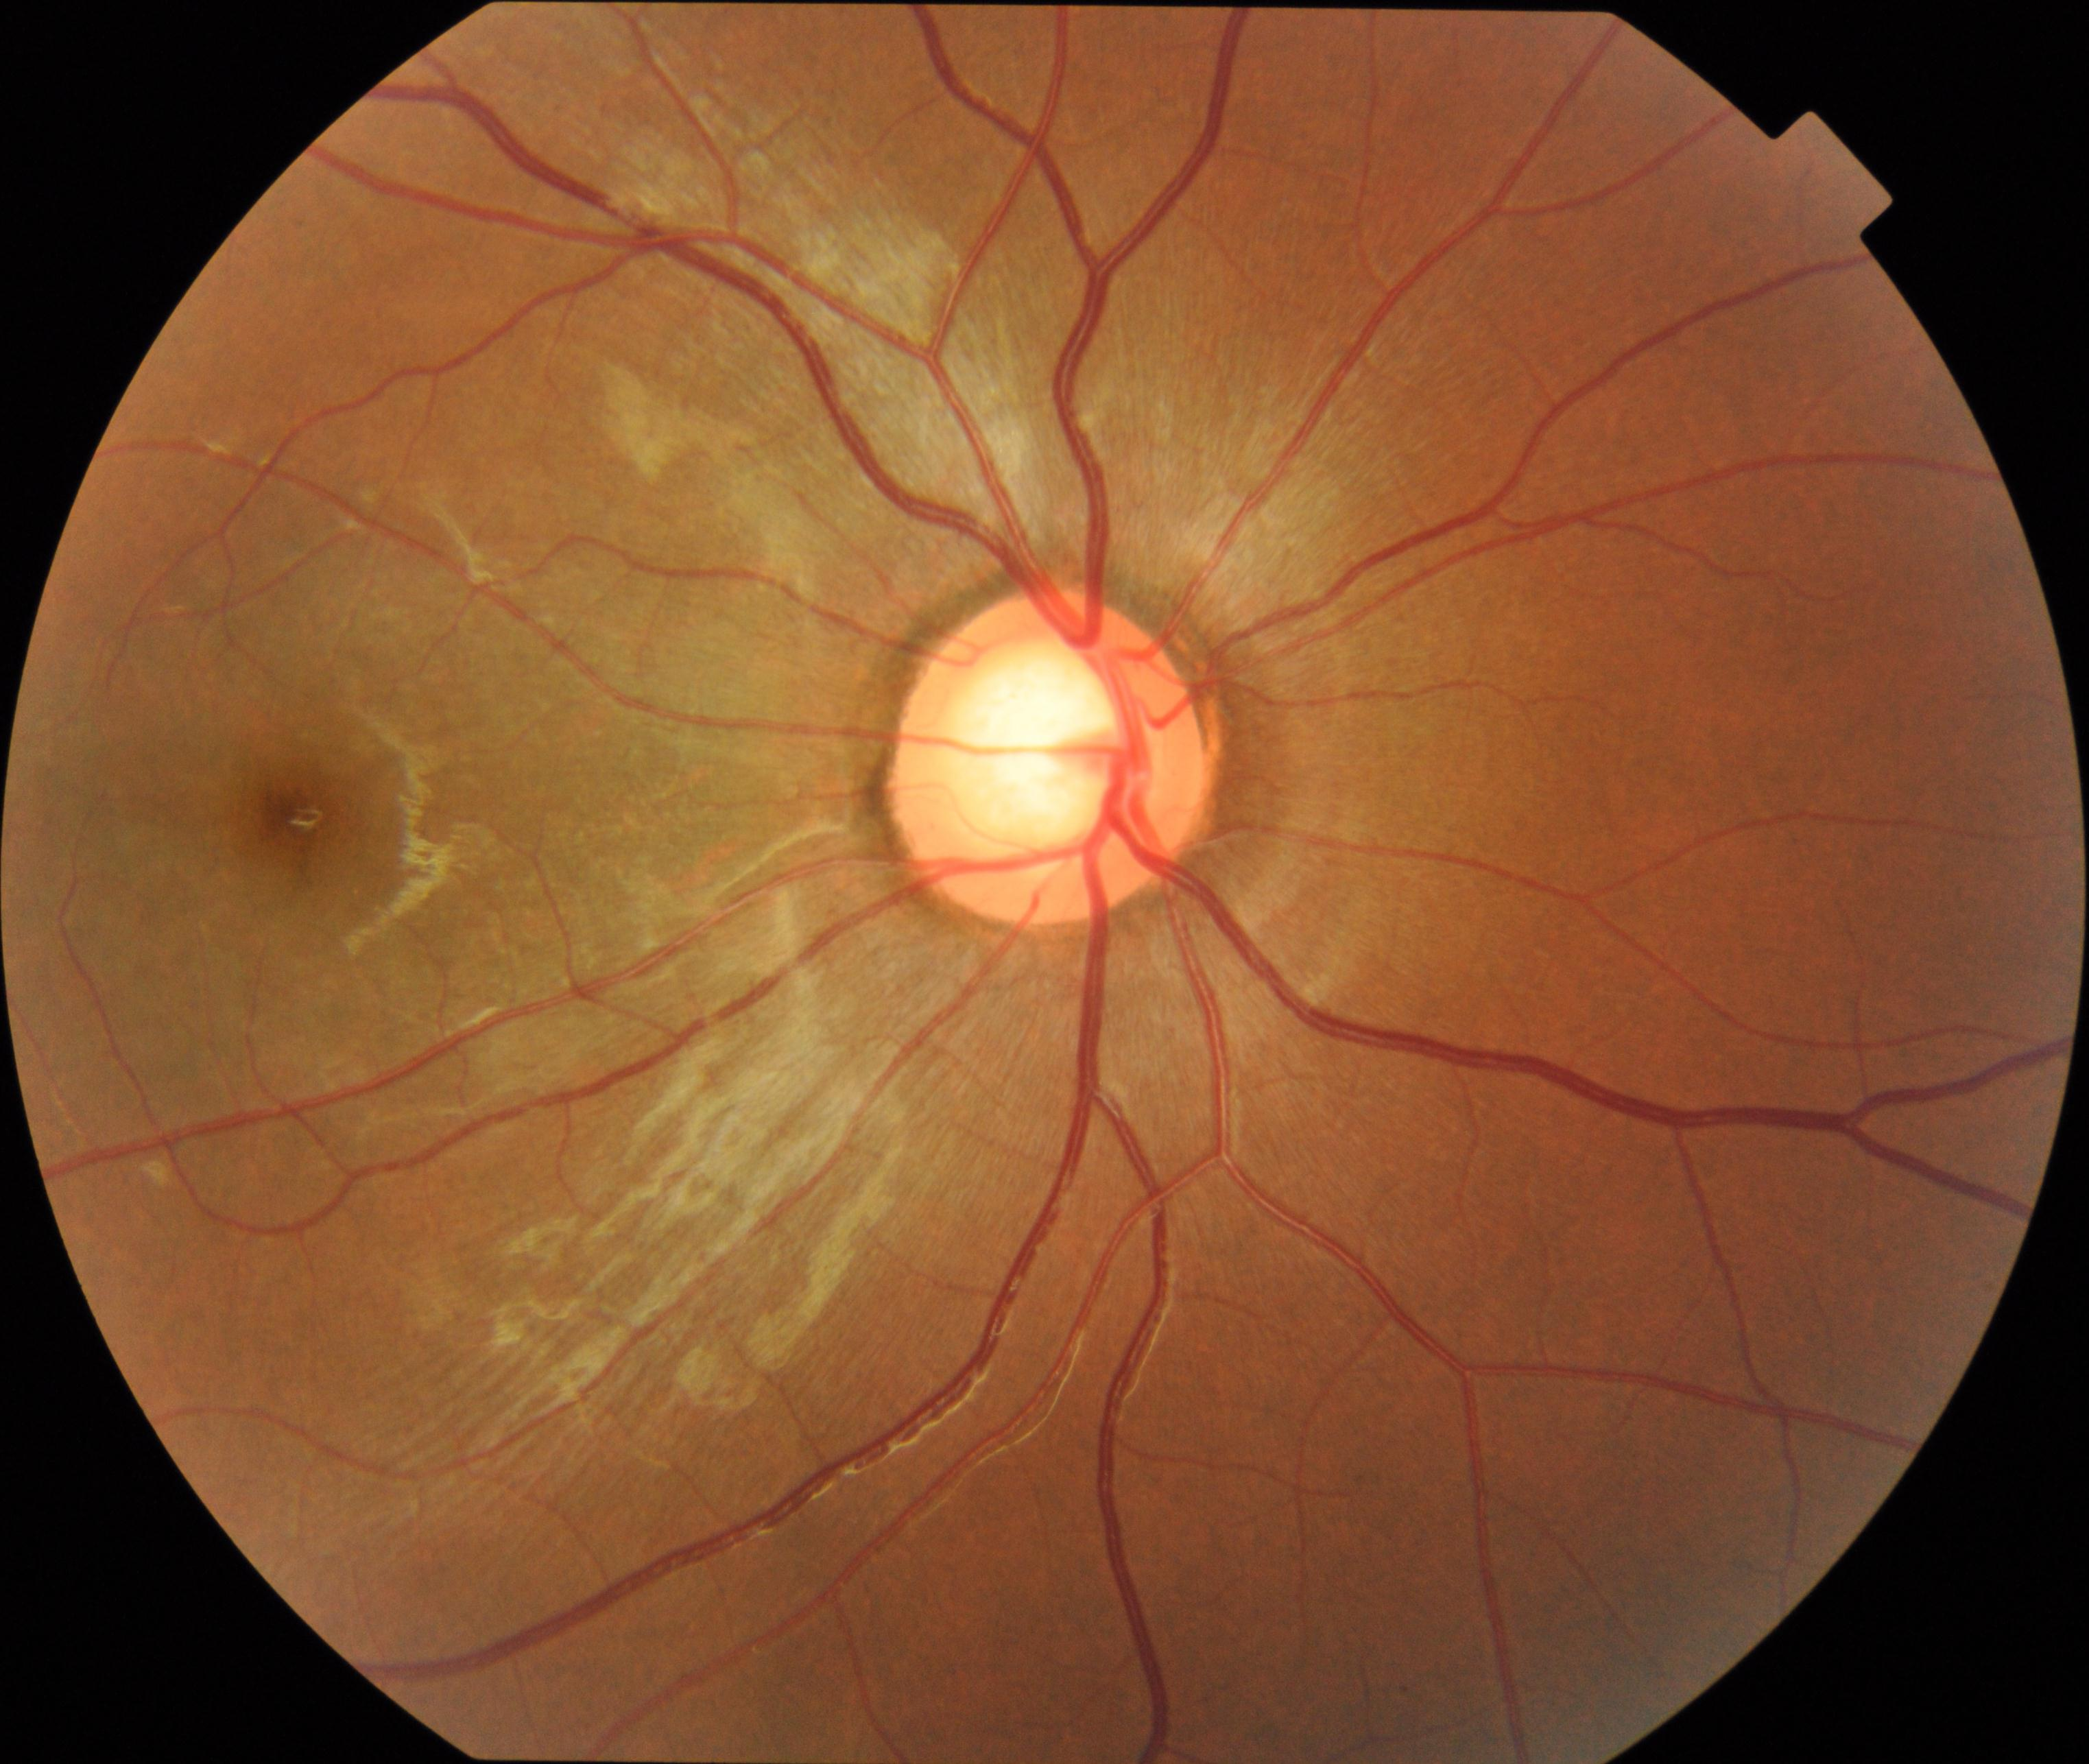Glaucoma section-1: (966, 649, 1104, 866)
Glaucoma section-2: (882, 586, 1225, 929)
